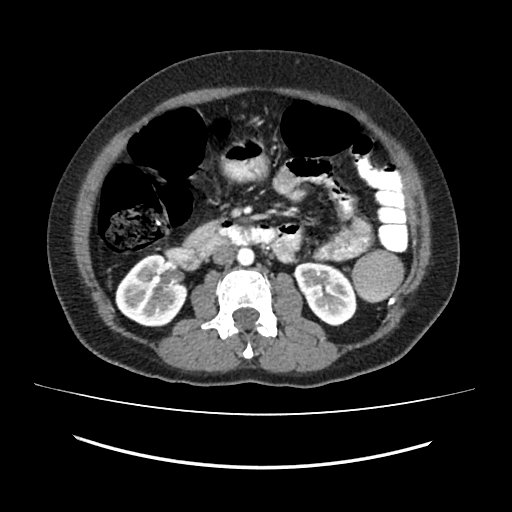aorta: (236, 255, 247, 266)
